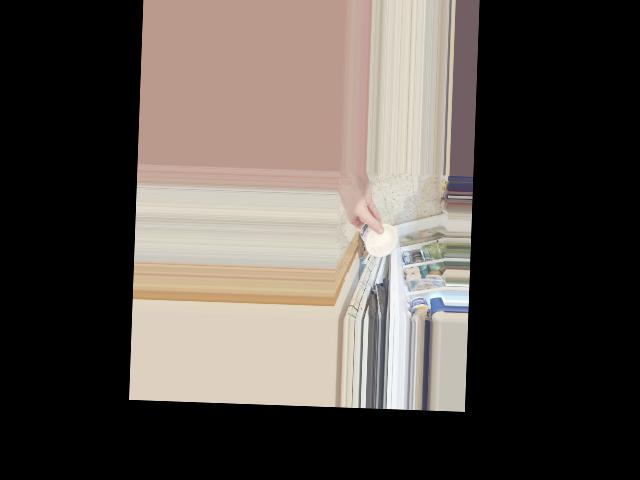cotage: (357, 220, 398, 259)
